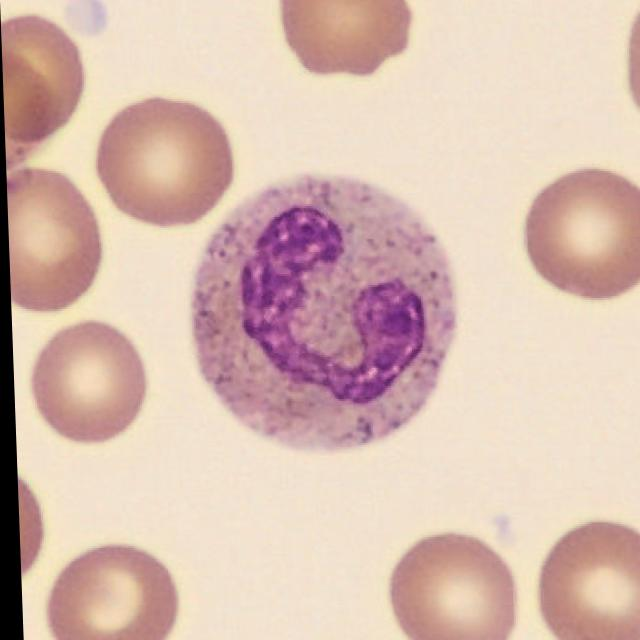Neutrofilo segmentado: (187, 173, 455, 452)
